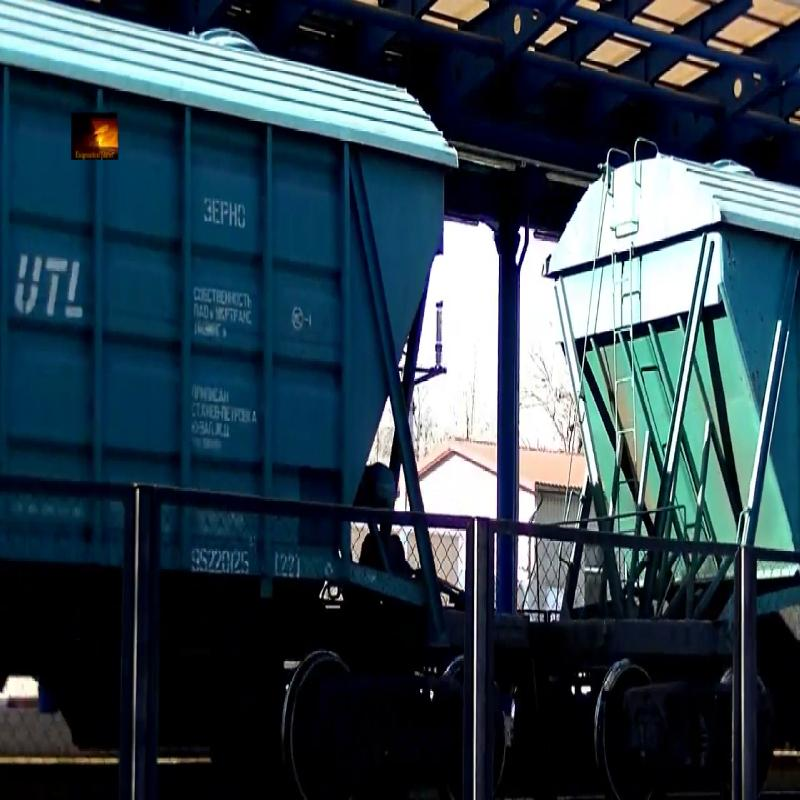train: (1, 1, 474, 761), (536, 1, 800, 740)
